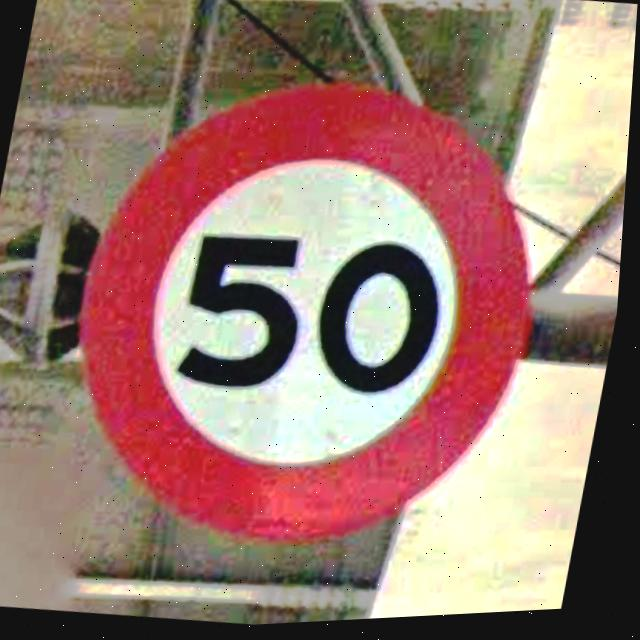max50: (41, 47, 580, 584)
